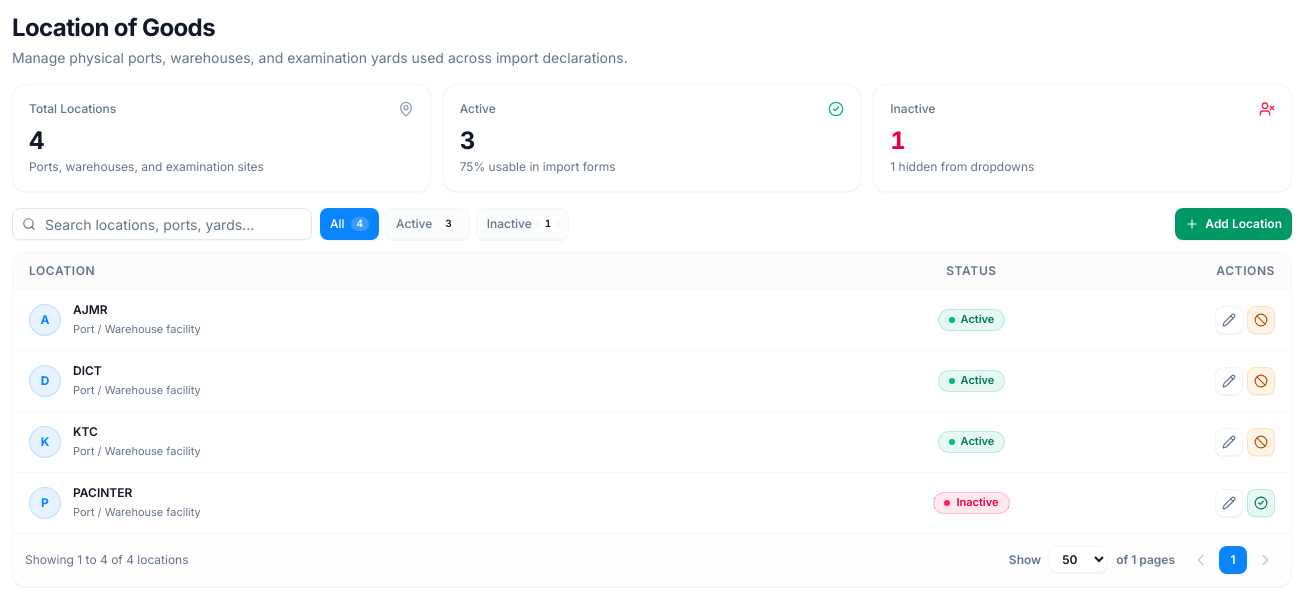
Scenario: LocationOfGoodsManagement › filters locations by search term
Type "DICT" into the field with placeholder "Search locations, ports, yards..." at (162, 224), box [12, 208, 312, 240]
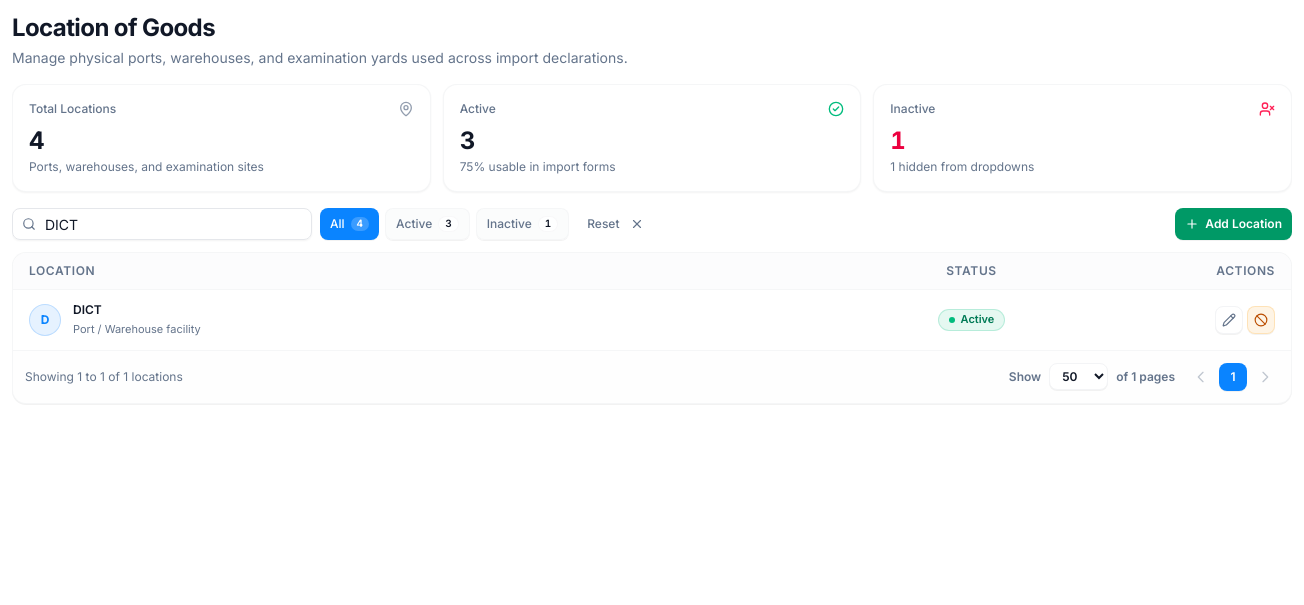
expect the text "DICT" is shown: met, box [73, 302, 102, 316]
expect the text "AJMR" is gone: met
